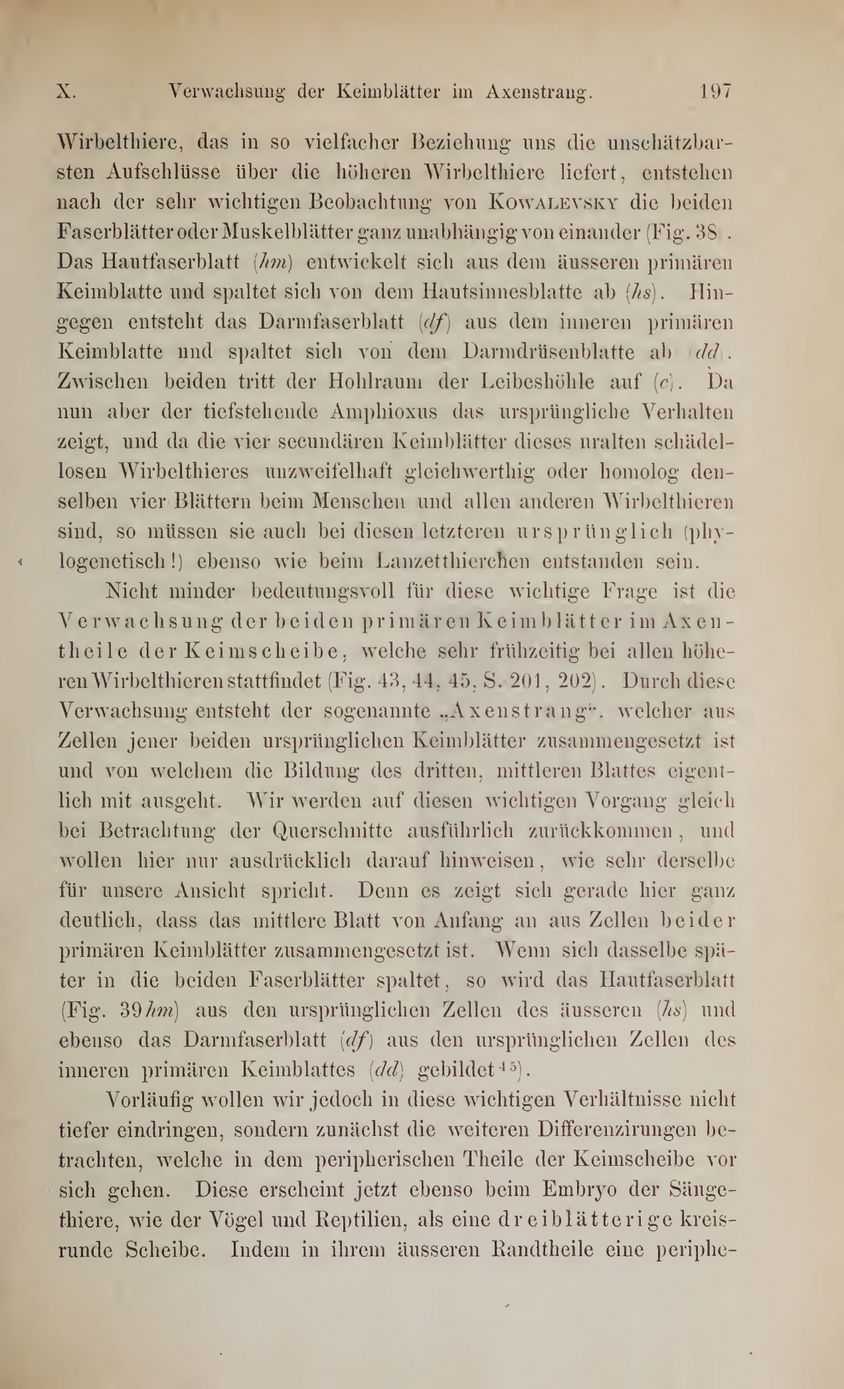MainZone: (46, 123, 757, 1281)
NumberingZone chapter: (33, 70, 89, 115)
NumberingZone_page: (694, 63, 748, 112)
RunningTitleZone: (156, 70, 606, 116)
